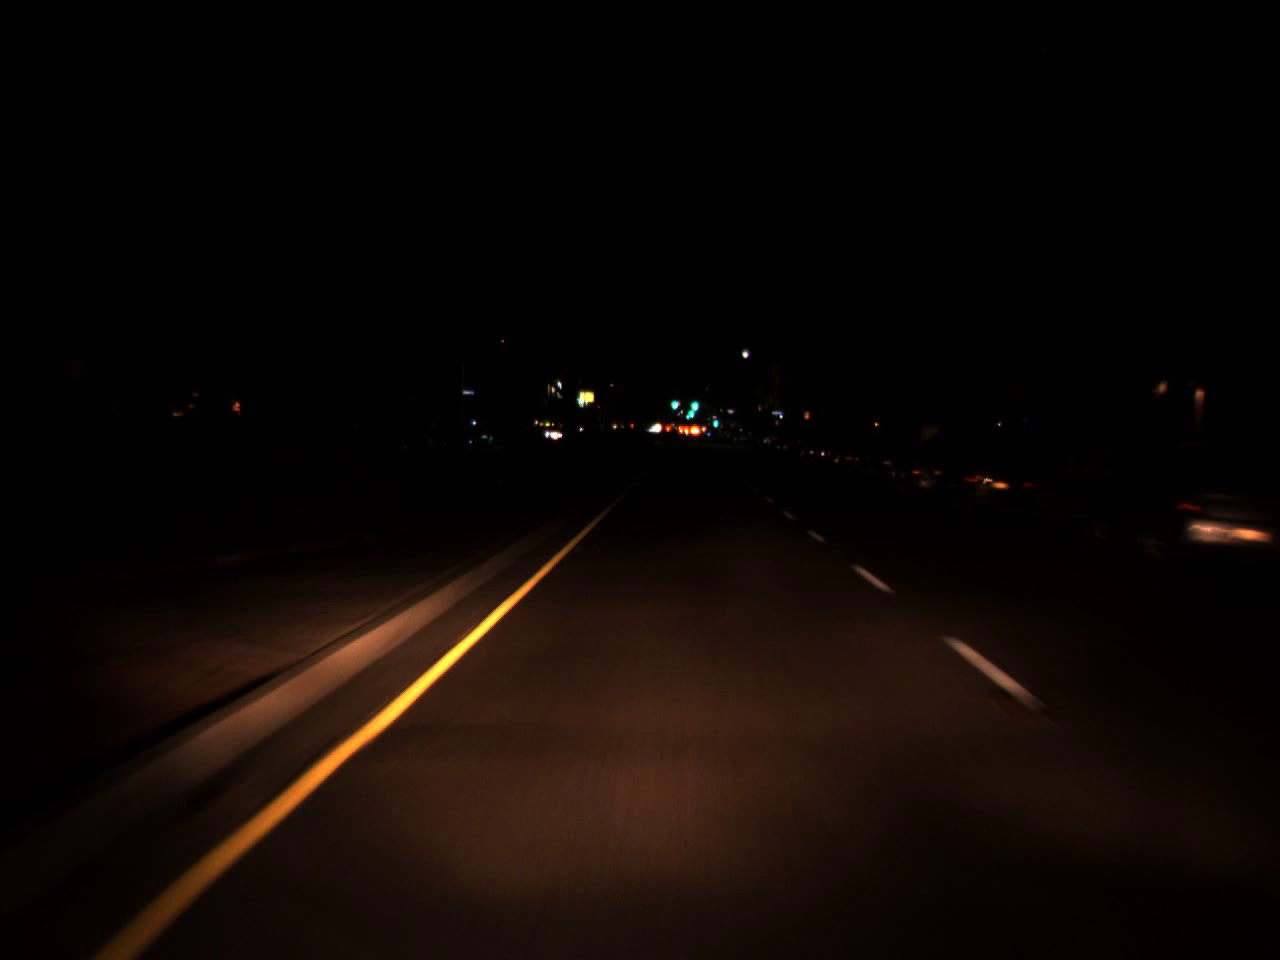go: (682, 399, 696, 423), (687, 391, 699, 415), (669, 391, 679, 412), (712, 412, 719, 430)
